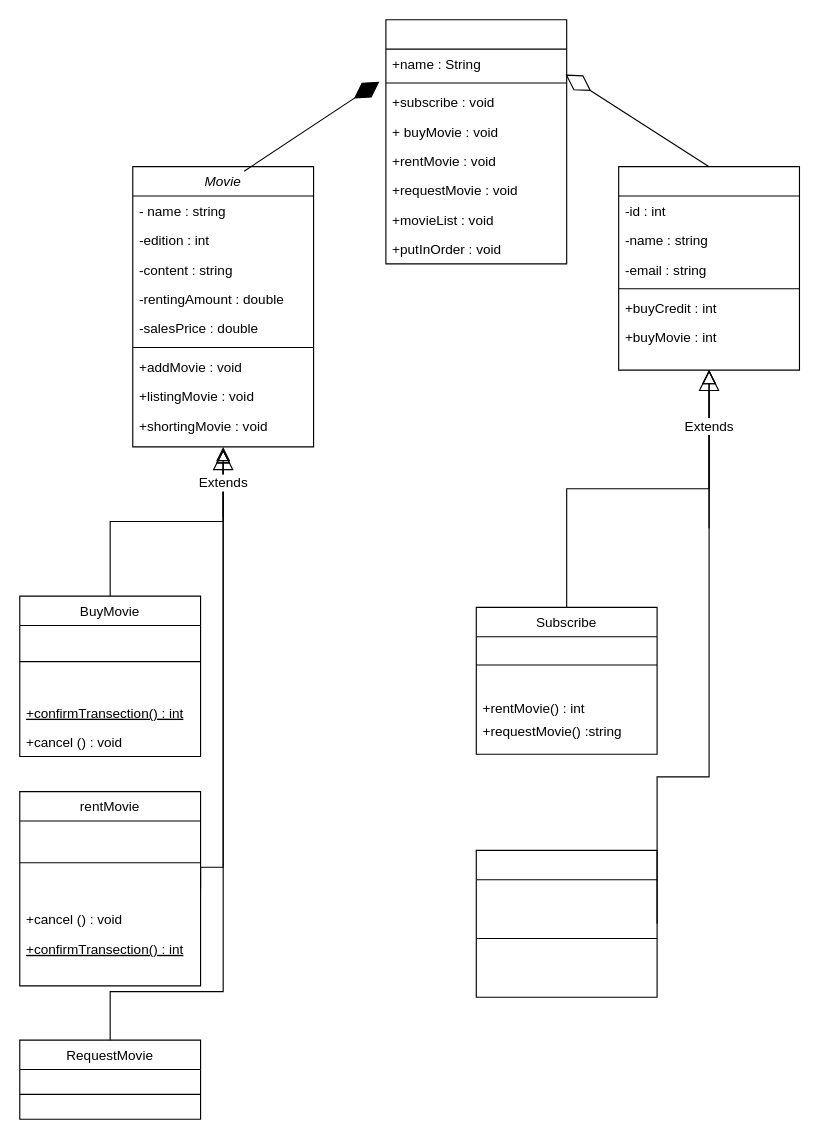
This 819x1139 diagram has some shape labels left out. The box of each missing label's shape, as (x1, y1, x2, y2) in pixels:
MovieApp: (385, 19, 567, 264)
NormalUser: (475, 849, 657, 997)
User: (618, 166, 799, 370)
